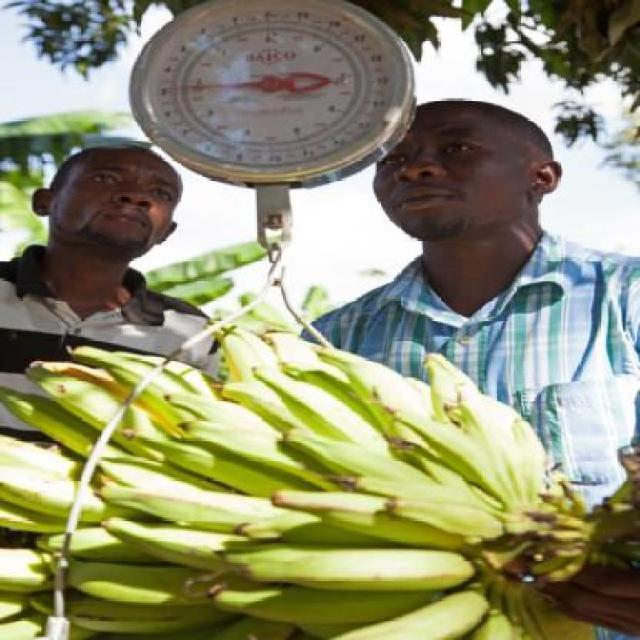Banana: (22, 328, 582, 604)
